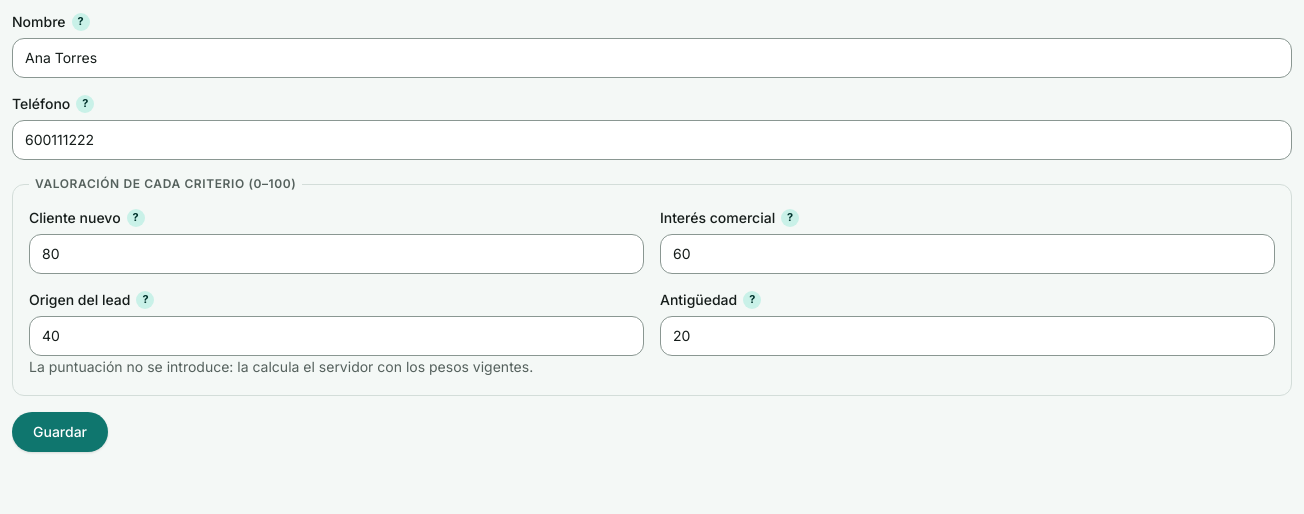
LeadForm › validación en React › rechaza valoraciones fuera de rango o decimales y el teléfono mal formado
This screenshot has width=1304, height=514.
Replace the text in the number field labelled "Origen del lead" with "101" at coordinates (336, 336), box [29,316,644,356]
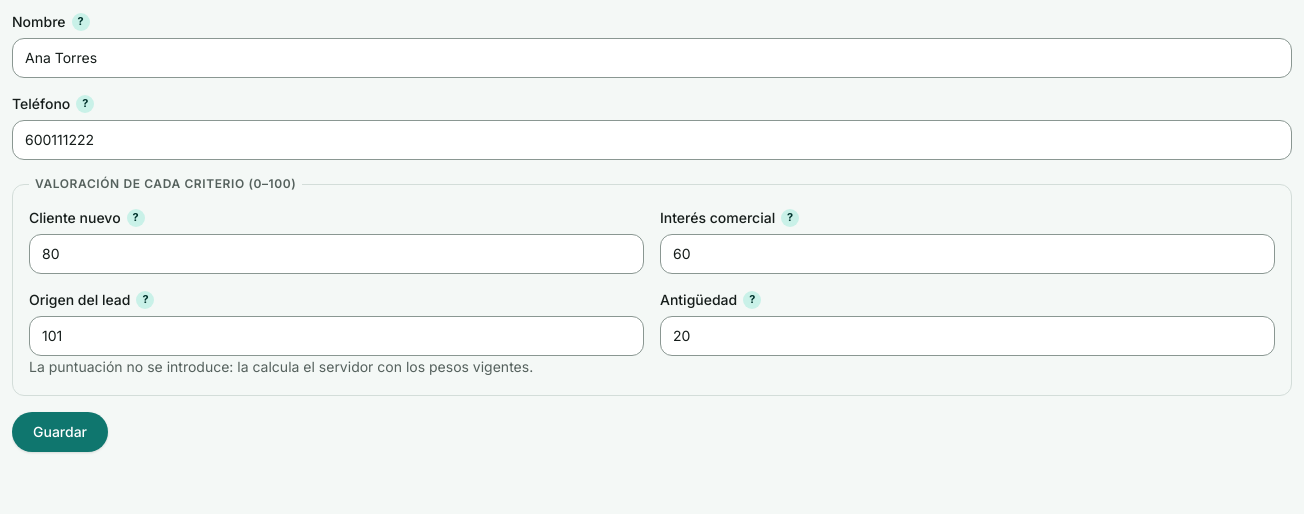
Replace the text in the number field labelled "Antigüedad" with "1.5" at coordinates (968, 336), box [660,316,1275,356]
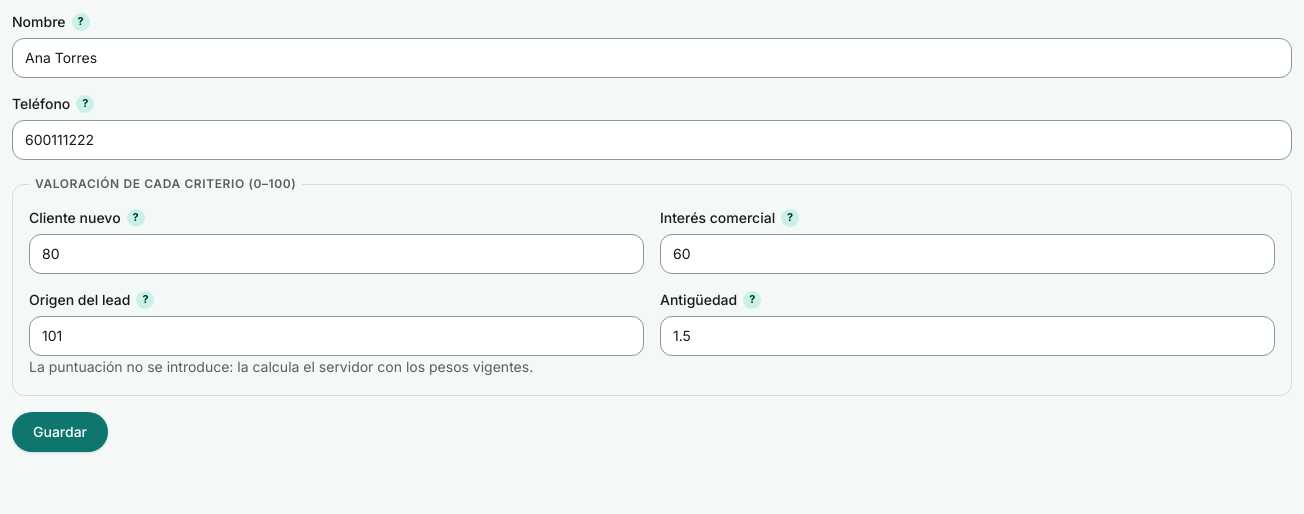
Replace the text in the field labelled "Teléfono" with "abc" at coordinates (652, 140), box [12,120,1292,160]
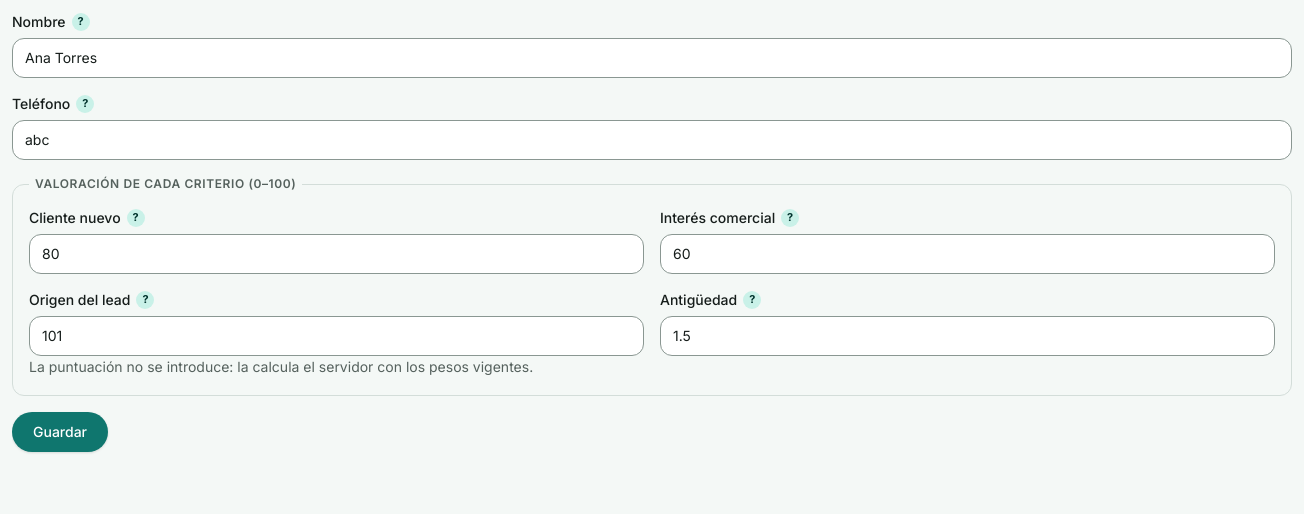
Click the button "Guardar".
click(60, 432)  # box [12,412,108,452]
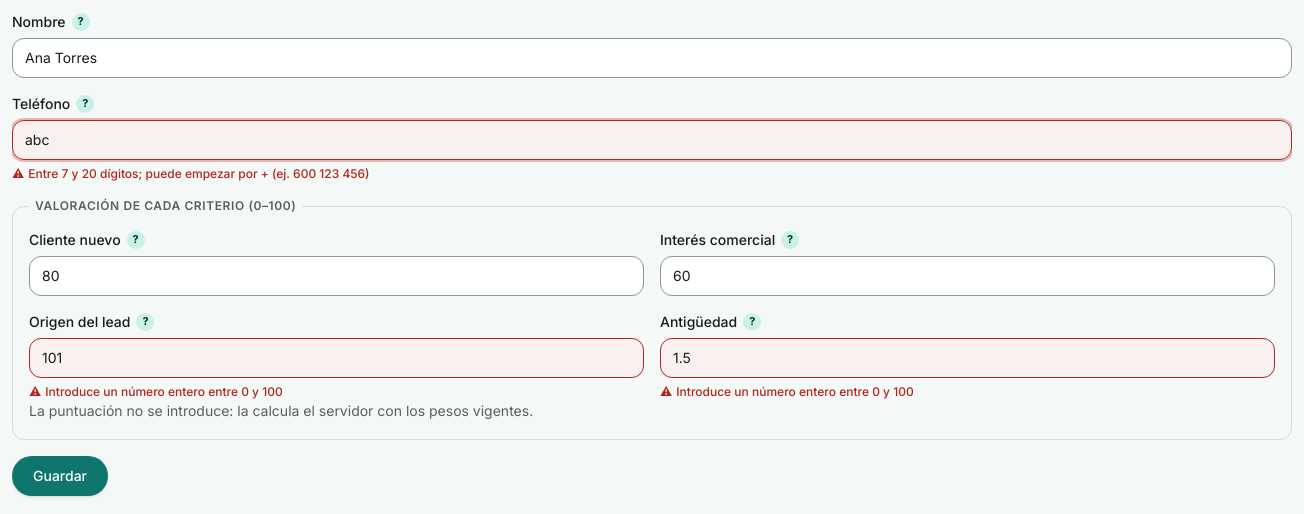
Expected: the text "Entre 7 y 20 dígitos; puede empezar por + (ej. 600 123 456)" is shown, [28,166,370,181]
Expected: the text "Introduce un número entero entre 0 y 100" is shown 2 times, [45,384,283,399]; [676,384,914,399]
